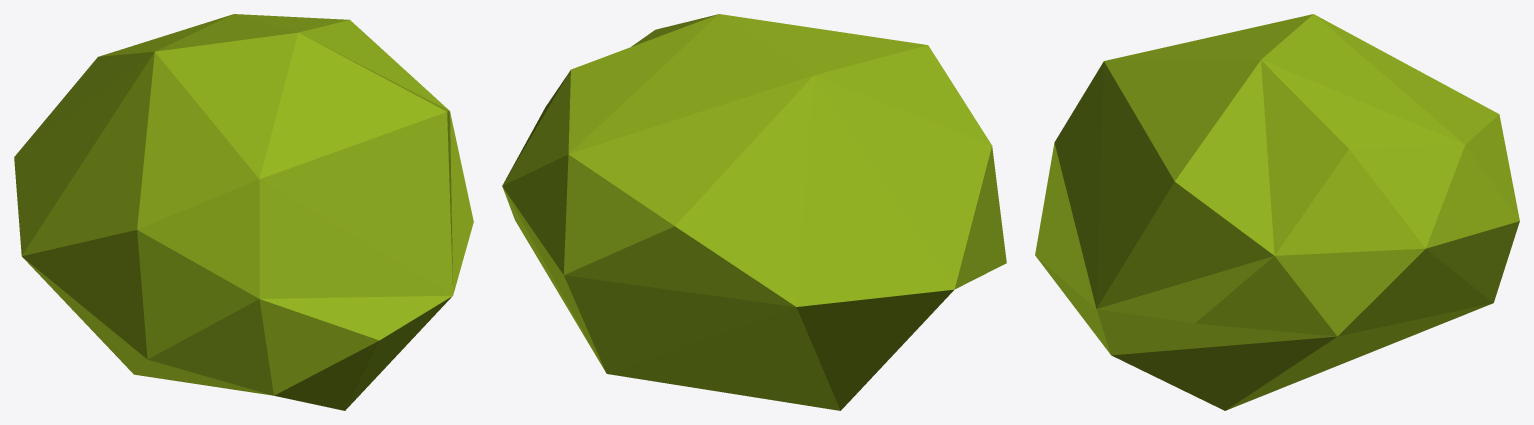
Rendered from Vegetation_Modular_Tree_Foliage_Clump_Small_08.fbx.
The picture shows the model from 3 angles, left to right: view 1: azimuth 30°, elevation 25°; view 2: azimuth 150°, elevation 25°; view 3: azimuth 270°, elevation 25°; orthographic projection. The views are drawn at different scales.
Visible parts, largest first — view 1: Vegetation_Modular_Tree_Foliage_Clump_Small_08; view 2: Vegetation_Modular_Tree_Foliage_Clump_Small_08; view 3: Vegetation_Modular_Tree_Foliage_Clump_Small_08.
Boxes of the visible parts, left/top/right/bottom form: Vegetation_Modular_Tree_Foliage_Clump_Small_08: left=14, top=14, right=473, bottom=410; Vegetation_Modular_Tree_Foliage_Clump_Small_08: left=502, top=14, right=1006, bottom=410; Vegetation_Modular_Tree_Foliage_Clump_Small_08: left=1035, top=14, right=1519, bottom=410.
Bounding box in the file's own units: 1585 × 1228 × 1658.
